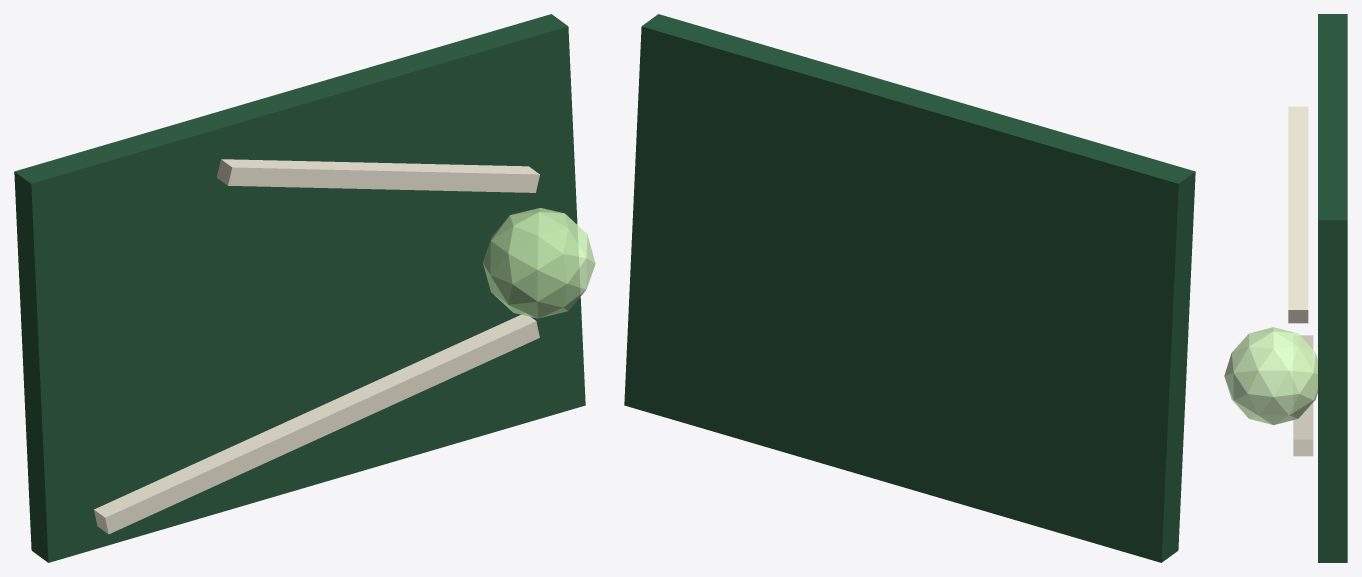
The model's file is 02_world_prop_polish.glb.
3 renders of one model, left to right at view 1: azimuth 30°, elevation 25°; view 2: azimuth 150°, elevation 25°; view 3: azimuth 270°, elevation 25°, orthographic. The views are drawn at different scales.
Parts seen in each view (by area): view 1: object_overlay_plate, edge_wear_a, glow_socket, edge_wear_b; view 2: object_overlay_plate; view 3: object_overlay_plate, glow_socket, edge_wear_b, edge_wear_a.
Boxes of the visible parts, x1=… form: object_overlay_plate: x1=14, y1=14, x2=585, y2=562; edge_wear_a: x1=94, y1=314, x2=539, y2=534; glow_socket: x1=483, y1=208, x2=595, y2=318; edge_wear_b: x1=216, y1=159, x2=539, y2=192; object_overlay_plate: x1=624, y1=14, x2=1195, y2=562; object_overlay_plate: x1=1318, y1=14, x2=1347, y2=562; glow_socket: x1=1224, y1=327, x2=1317, y2=425; edge_wear_b: x1=1288, y1=106, x2=1308, y2=323; edge_wear_a: x1=1293, y1=335, x2=1313, y2=456.
Bounding box in the file's own units: 1.13 × 0.8008 × 0.25.
